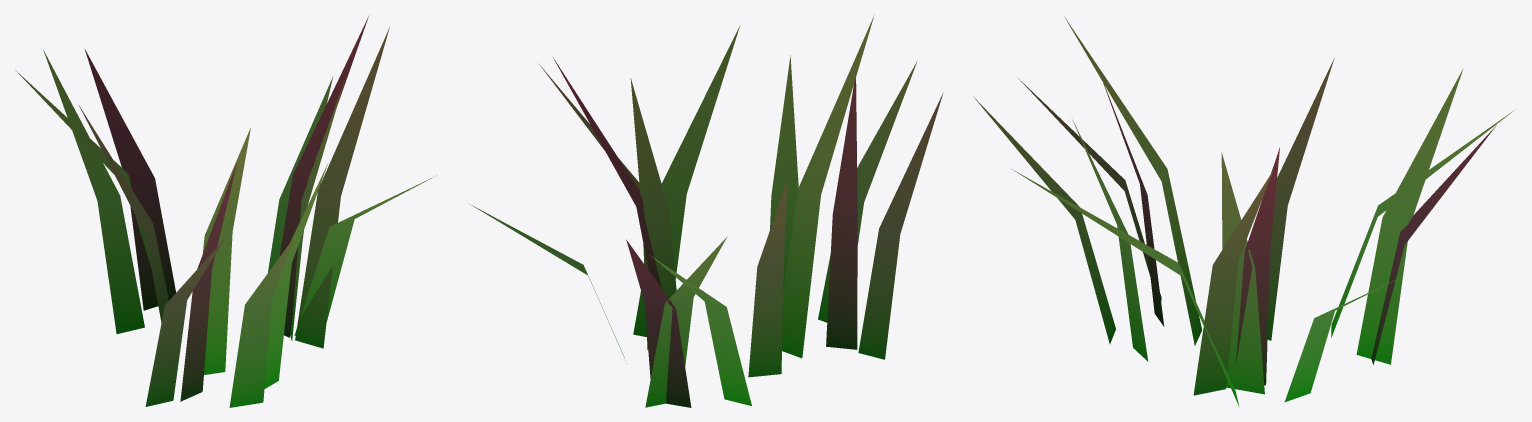
Rendered from basic-grass.glb.
The picture shows the model from 3 angles, left to right: view 1: azimuth 30°, elevation 25°; view 2: azimuth 150°, elevation 25°; view 3: azimuth 270°, elevation 25°; orthographic projection. The views are drawn at different scales.
Visible parts, largest first — view 1: basic-grass_LOD0; view 2: basic-grass_LOD0; view 3: basic-grass_LOD0.
Part boxes in pixels (x1,y1,x2,y2): basic-grass_LOD0: (15,15,437,407); basic-grass_LOD0: (470,15,943,407); basic-grass_LOD0: (973,16,1515,406).
Size of what is drawn, in the model's own units: 0.335 by 0.3158 by 0.4988.
